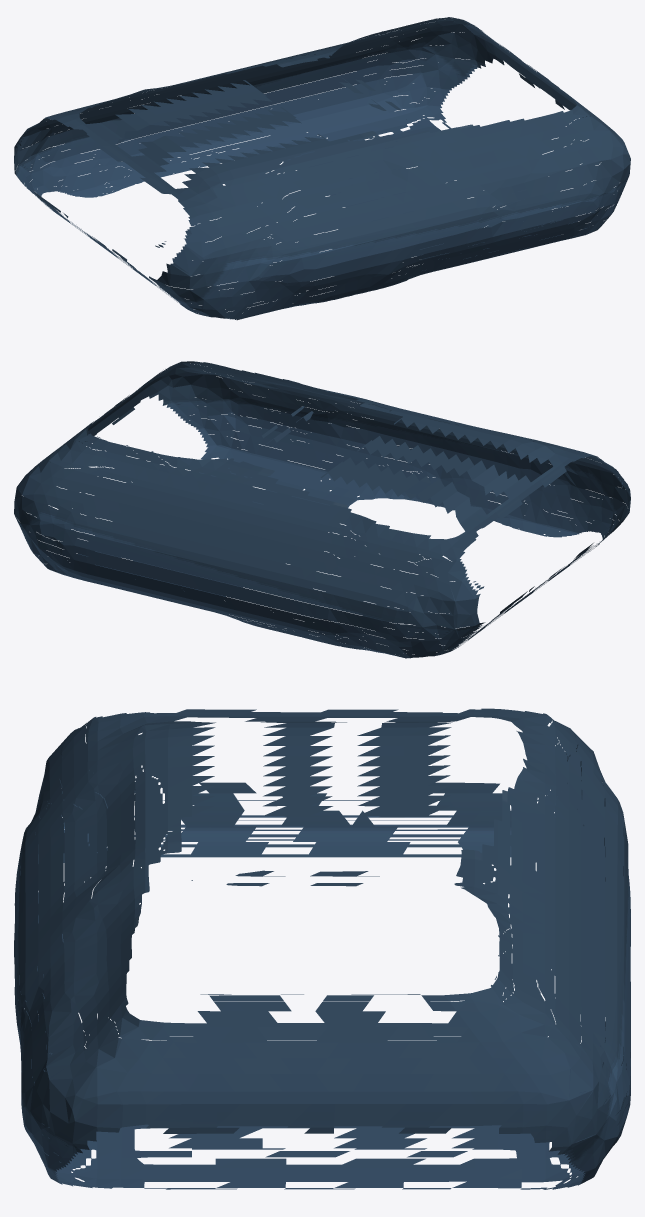
3 renders of one model, top to bottom at view 1: azimuth 30°, elevation 25°; view 2: azimuth 150°, elevation 25°; view 3: azimuth 270°, elevation 25°, orthographic. The views are drawn at different scales.
Parts seen in each view (by area): view 1: reconstruction; view 2: reconstruction; view 3: reconstruction.
Part boxes in pixels (x1,y1,x2,y2): reconstruction: (14,17,630,320); reconstruction: (14,361,630,658); reconstruction: (14,708,630,1189).
Bounding box in the file's own units: 1 × 0.3045 × 0.699.
1 material, 1 textured.
